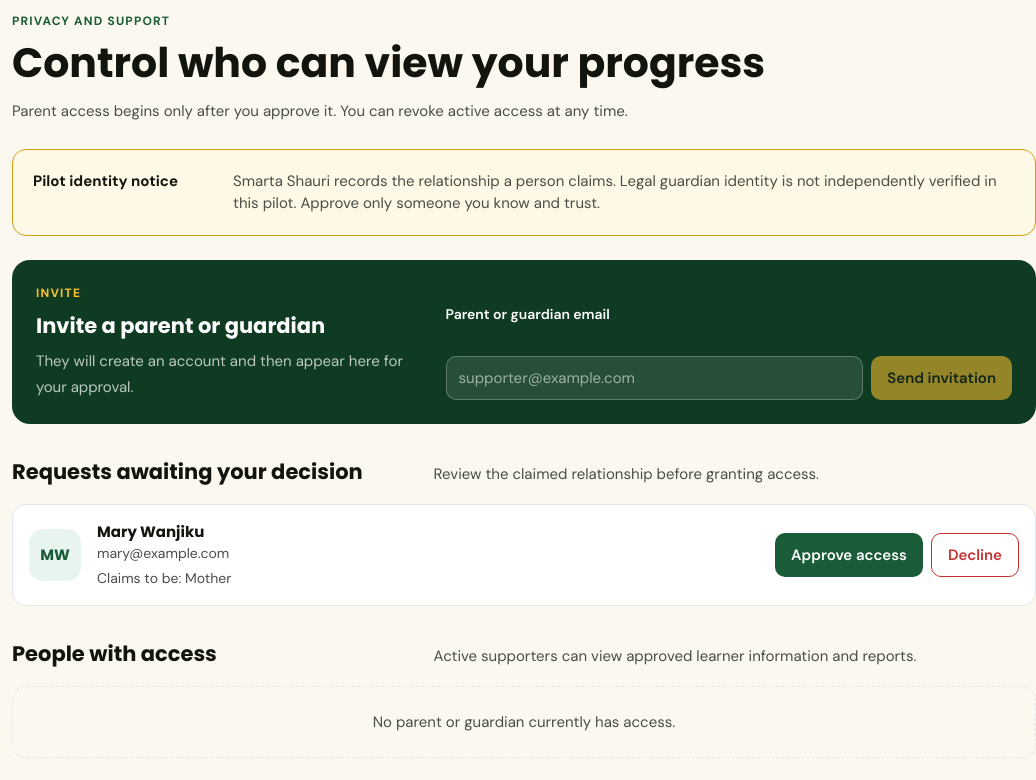
ParentAccessPage › shows a claimed relationship and approves a pending request
This screenshot has width=1036, height=780.
Expected: the heading "Mary Wanjiku" is shown, [97, 521, 204, 542]
Expected: the text "Claims to be: Mother" is shown, [97, 569, 231, 587]
Click the button "Approve access" at (849, 555), box [775, 533, 923, 577]
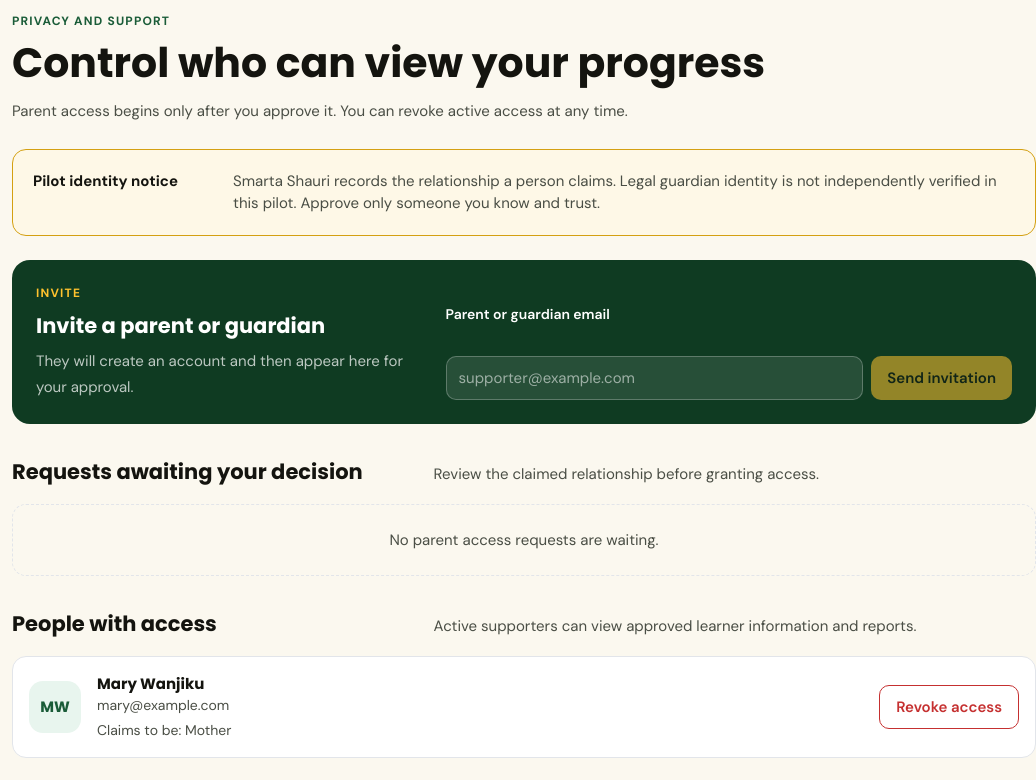
Now the button "Revoke access" is shown, box [879, 685, 1019, 729]
